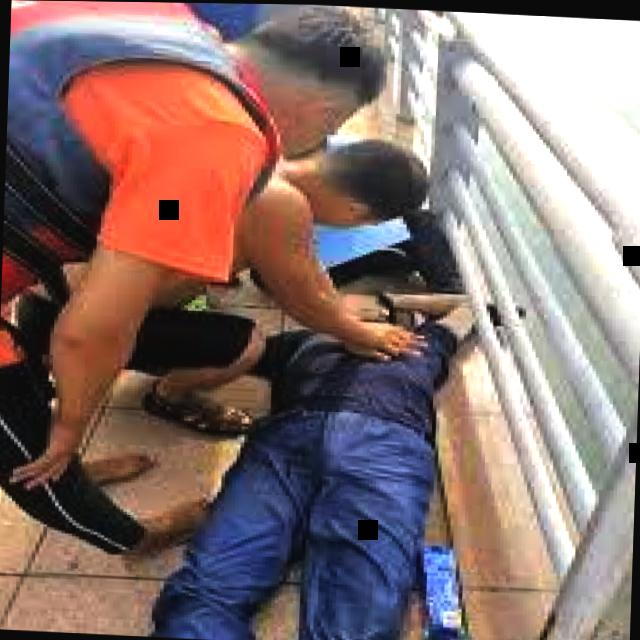Fall-Detected: (104, 206, 503, 640)
